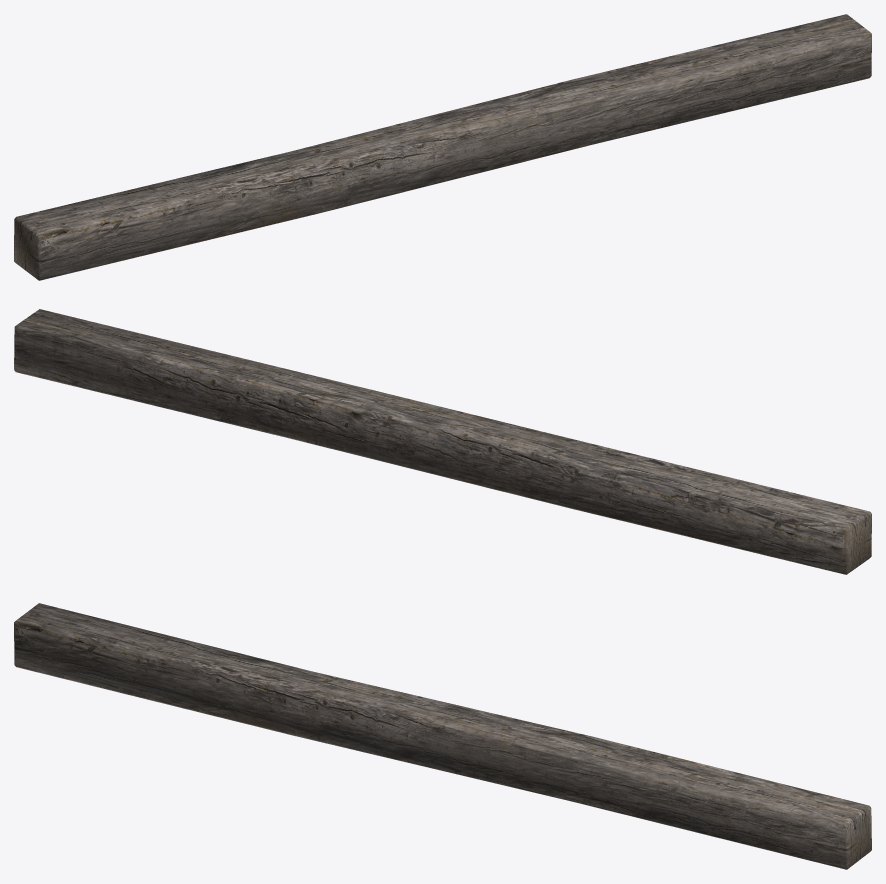
Rendered from beam long.fbx.
3 views of the same model, one above another, from view 1: azimuth 30°, elevation 25°; view 2: azimuth 150°, elevation 25°; view 3: azimuth 330°, elevation 25° (orthographic).
Parts seen in each view (by area): view 1: Cube.063; view 2: Cube.063; view 3: Cube.063.
Boxes of the visible parts, bbox=[...] form: Cube.063: bbox=[14, 14, 871, 280]; Cube.063: bbox=[14, 309, 871, 574]; Cube.063: bbox=[14, 603, 871, 869].
Size of the model in its own units: 663 by 37.96 by 37.8.
